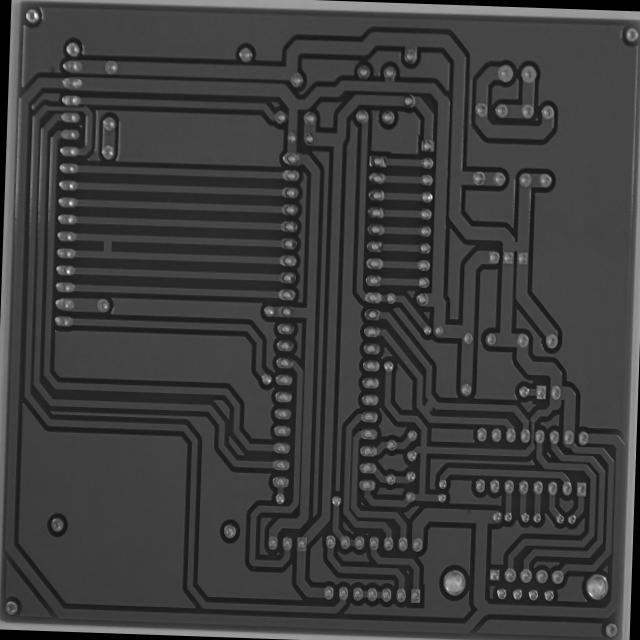short: (416, 392, 441, 418), (95, 232, 117, 260), (505, 234, 526, 258)
